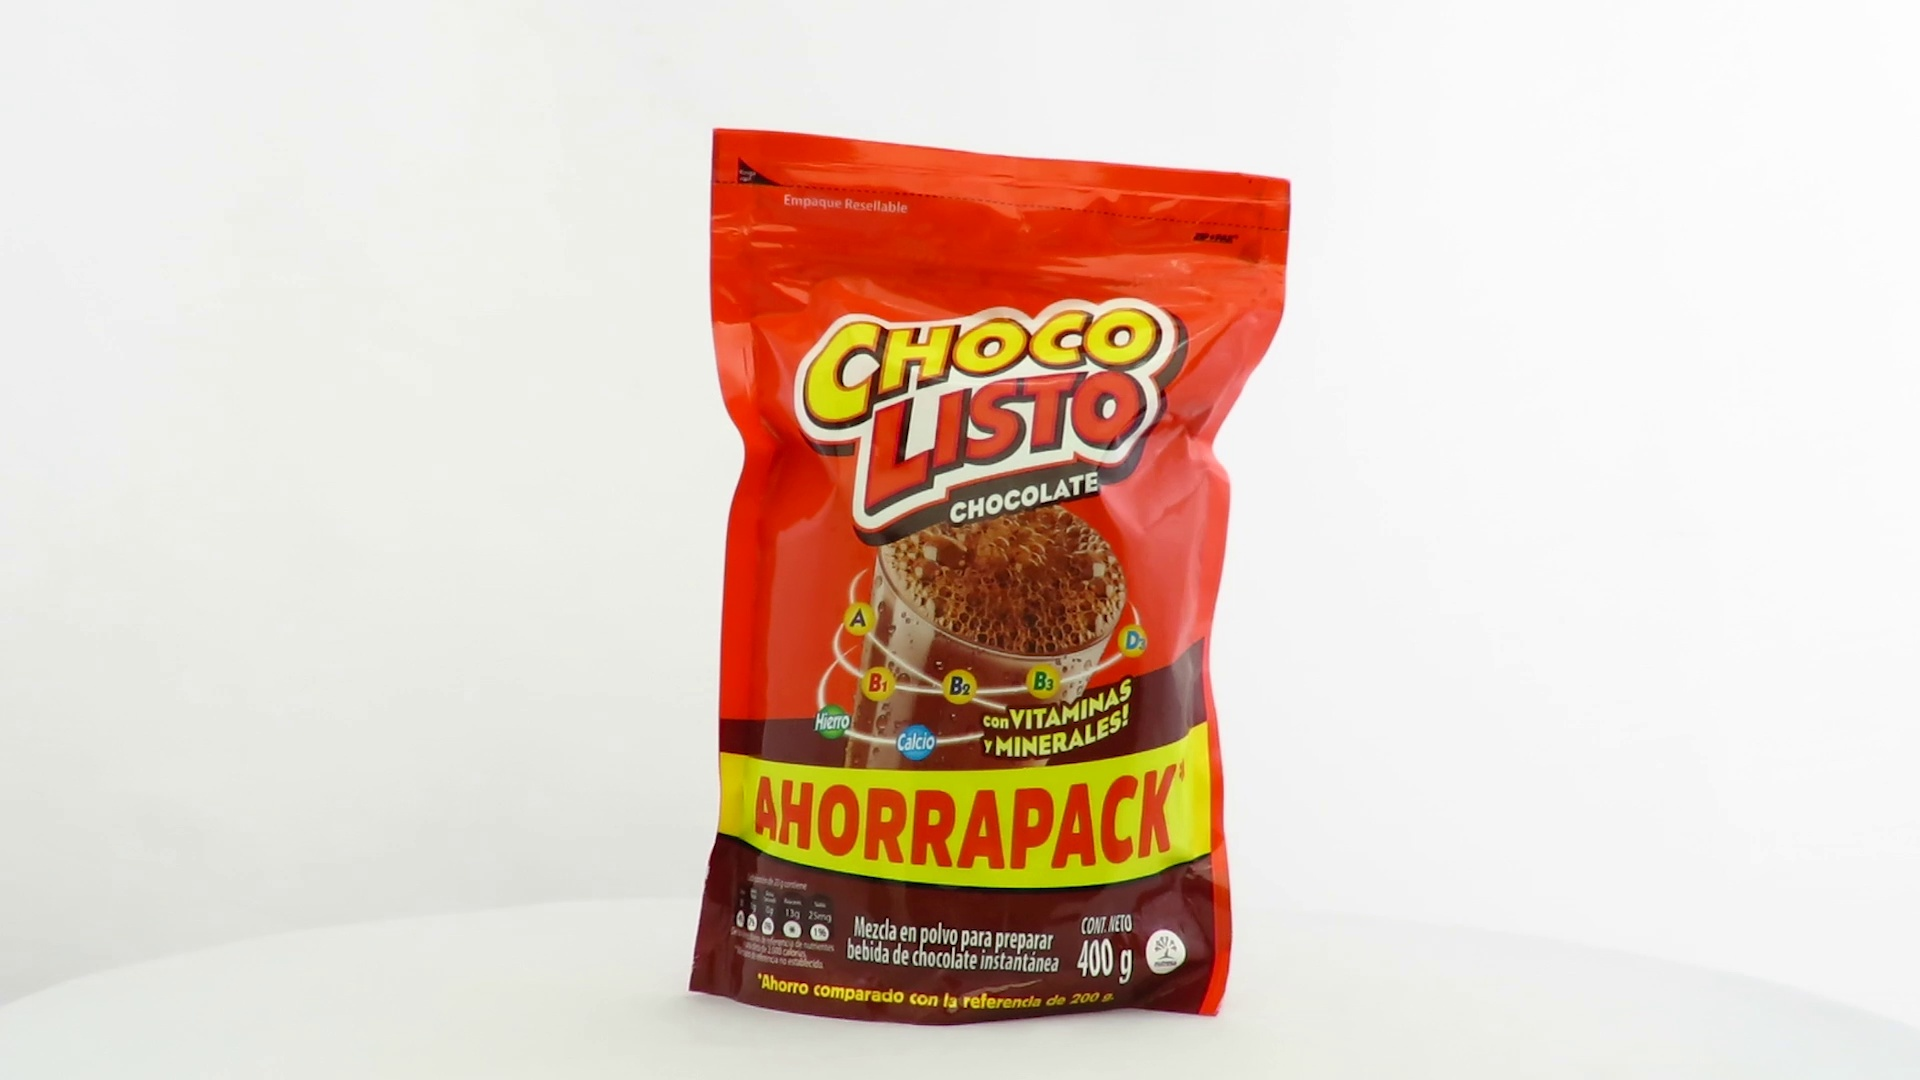COL0170103DYP40000: (684, 123, 1298, 1033)
